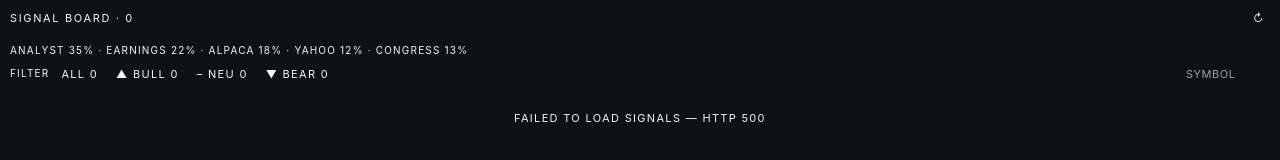
Test: SignalsPanelV2 request-failure messaging › clears the 500 error after a successful refresh
This screenshot has width=1280, height=160.
Expected: the text "FAILED TO LOAD SIGNALS — HTTP 500" is shown, [514,111,766,125]
Step 1. Click the button "↻" → [1258, 18], box [1247,8,1270,28]
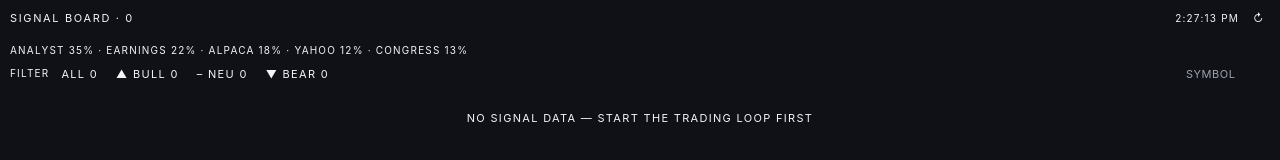
Now the text "FAILED TO LOAD SIGNALS — HTTP 500" is gone
